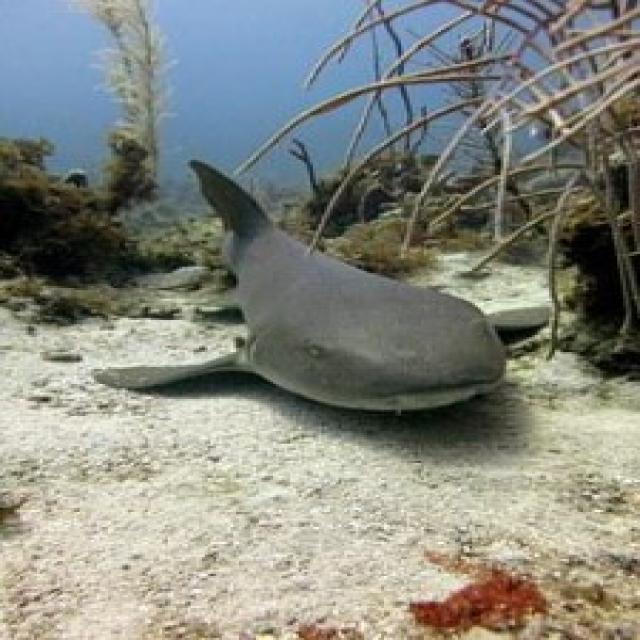Shark: (102, 152, 514, 422)
